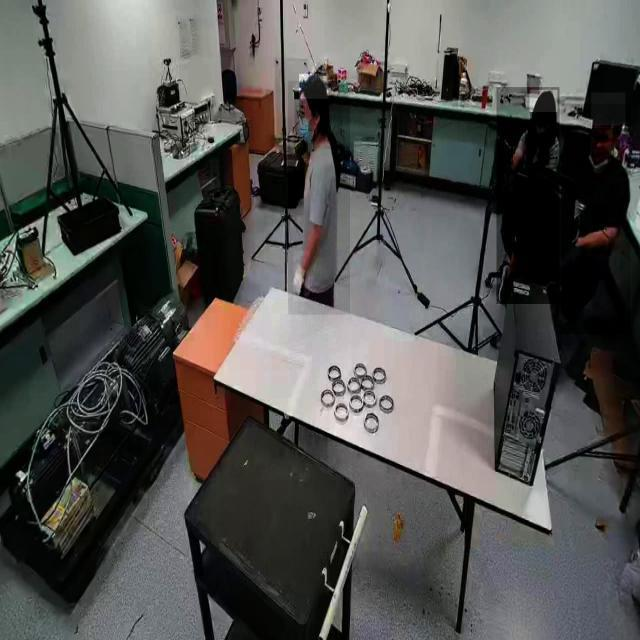gloves: (294, 250, 310, 302)
